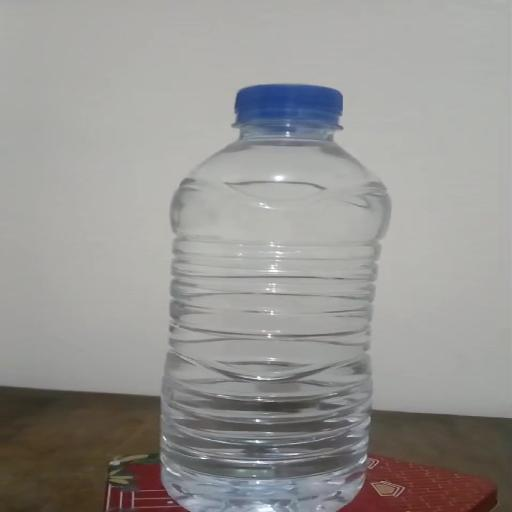bouteille non conformite: (177, 84, 379, 512), (72, 224, 430, 364)
